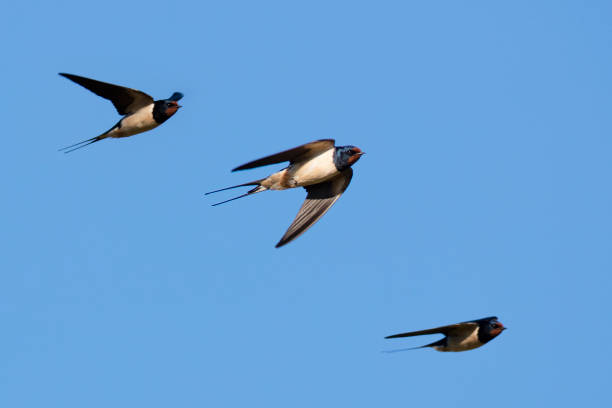Bird: (202, 134, 367, 253), (50, 68, 185, 154), (380, 311, 510, 364)
